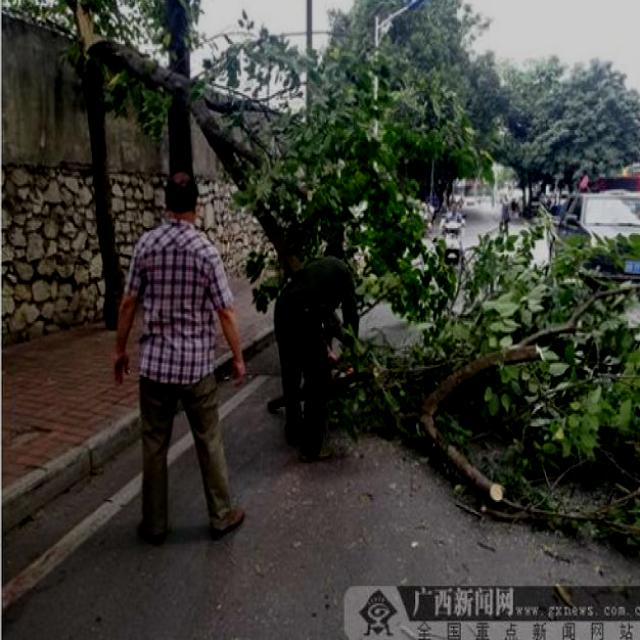fallen_object: (74, 0, 462, 336), (401, 228, 640, 519)
